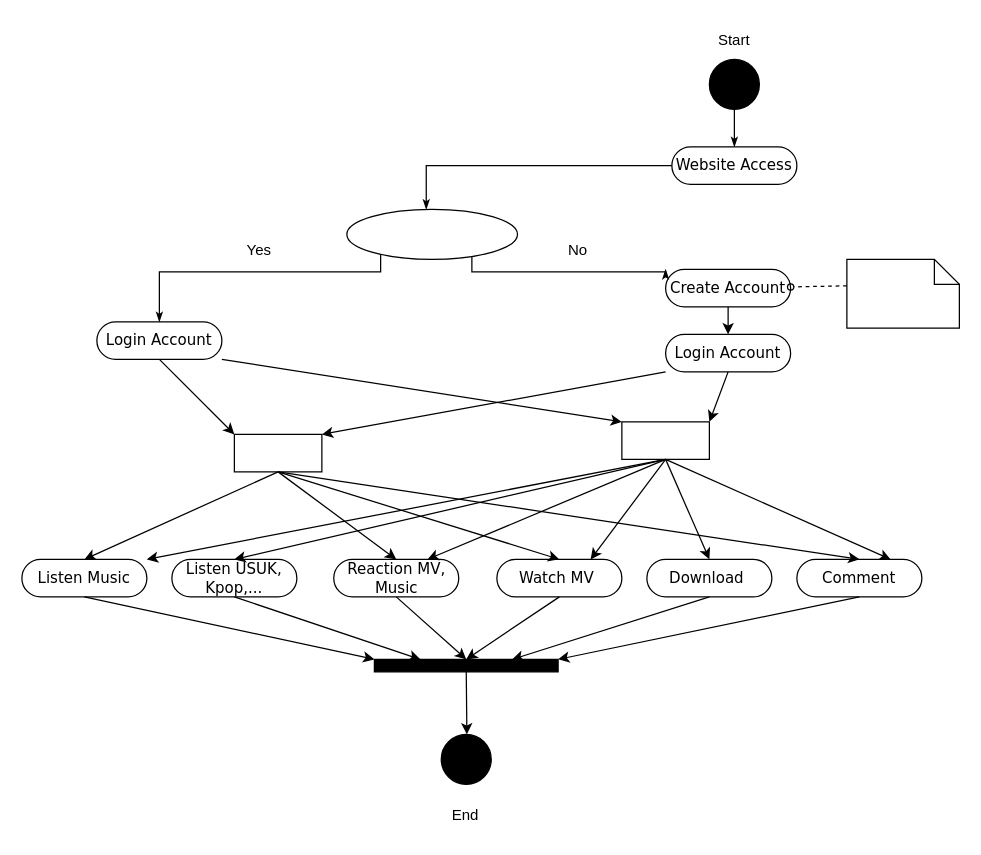
Image size: 981x855. Some labels were removed from this diagram. The centre of each missing label's shape, as x and y in pixels:
"Agree tems and conditions before submit" belongs at [902,293].
"Create or Login Account" belongs at [432,233].
"Standard Account" belongs at [277,452].
"VIP Account" belongs at [665,440].
